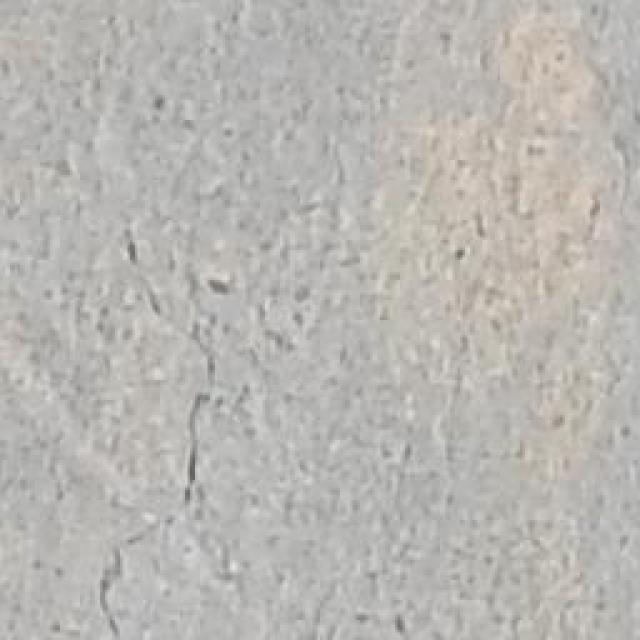concrete-crack: (94, 231, 219, 639)
